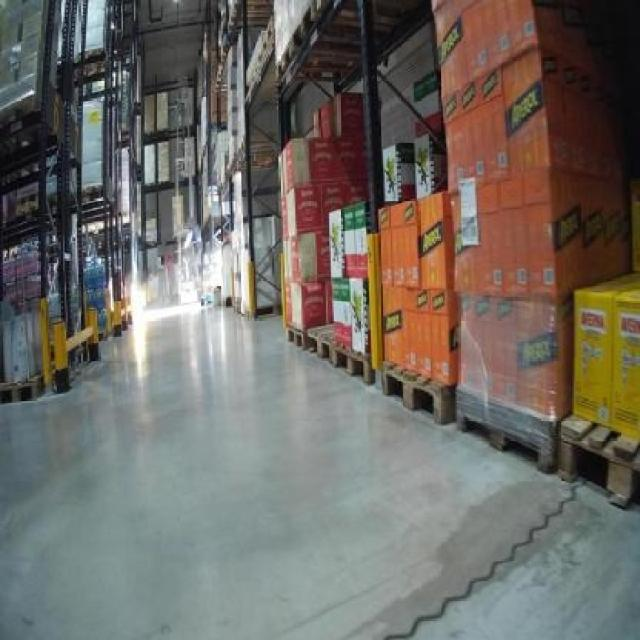floor: (0, 305, 637, 637)
pallets: (431, 0, 626, 468), (377, 191, 455, 420)
